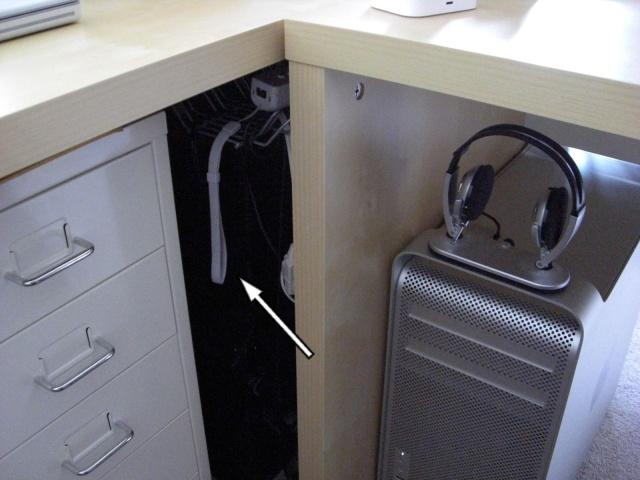Filing Cabinet: (0, 112, 212, 479)
